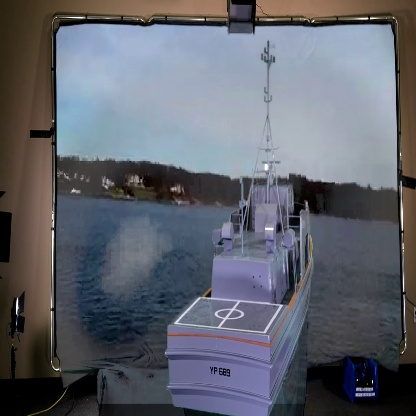YP689: (163, 39, 317, 416)
